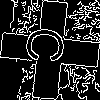C: (25, 25, 74, 66)
